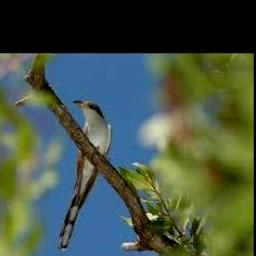Cuckoo: (59, 101, 112, 250)
